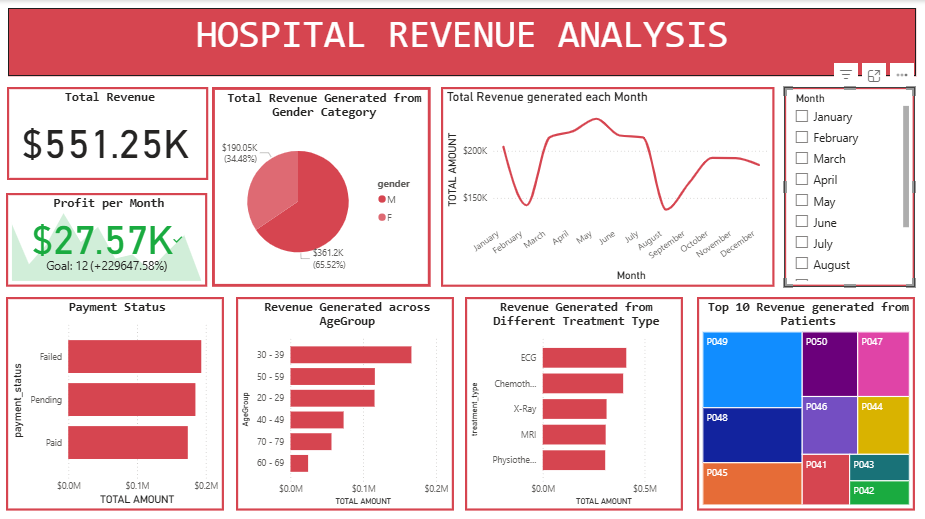

The dashboard page shown, as its layout file describes it:
{"tool":"powerbi","page":{"name":"REVENUE","canvas":[1280,720],"ordinal":1},"visuals":[{"type":"textbox","box":[10.5,10.5,1250.3,94.1],"z":0},{"type":"cardVisual","title":"Total Revenue","fields":{"Data":["BILLING.TOTAL AMOUNT"]},"box":[10.1,119.3,277.2,127.7],"z":1000},{"type":"clusteredBarChart","title":"Revenue Generated across AgeGroup","fields":{"Category":["PATIENTS.AgeGroup"],"Y":["BILLING.TOTAL AMOUNT"]},"box":[324.1,409.3,300.2,294.3],"z":2000},{"type":"clusteredBarChart","title":"Revenue Generated from Different Treatment Type","fields":{"Category":["TREATMENT.treatment_type"],"Y":["BILLING.TOTAL AMOUNT"]},"box":[639.3,409.3,300.2,294.3],"z":3000},{"type":"pieChart","title":"Total Revenue Generated from Gender Category","fields":{"Category":["PATIENTS.gender"],"Y":["BILLING.TOTAL AMOUNT"]},"box":[292.3,119.3,300.7,275.5],"z":4000},{"type":"lineChart","title":"Total Revenue generated each Month","fields":{"Category":["TREATMENT.treatment_date.Variation.Date Hierarchy.Month"],"Y":["BILLING.TOTAL AMOUNT"]},"box":[606.4,119.3,458.6,275.5],"z":5000},{"type":"treemap","title":"Top 10 Revenue generated  from Patients","fields":{"Group":["PATIENTS.patient_id"],"Values":["BILLING.TOTAL AMOUNT"]},"box":[959,409.3,300.2,294.3],"z":6000},{"type":"slicer","fields":{"Values":["TREATMENT.treatment_date.Variation.Date Hierarchy.Month"]},"box":[1079.1,119.7,180.3,275.3],"z":7000},{"type":"kpi","title":"Profit per Month","fields":{"Indicator":["BILLING.TOTAL AMOUNT"],"TrendLine":["BILLING.bill_date.Variation.Date Hierarchy.Month"],"Goal":["CountNonNull(BILLING.bill_id)"]},"box":[8.4,265.4,277.2,129.3],"z":8000},{"type":"barChart","title":" Payment Status","fields":{"Category":["BILLING.payment_status"],"Y":["BILLING.TOTAL AMOUNT"]},"box":[8,409,300,294],"z":9000},{"type":"actionButton","box":[22.2,680.2,100.8,39.3],"z":9001},{"type":"actionButton","box":[1163.8,680.2,100.8,39.3],"z":9002}]}

Visuals, with their boxes in screenshot pixels (x1, y1, x2, y2), scaled from the page's 1280x720 canvas onto the 925x519 screenshot:
textbox: BBox(8, 8, 911, 75)
"Total Revenue" cardVisual: BBox(7, 86, 208, 178)
"Revenue Generated across AgeGroup" clusteredBarChart: BBox(234, 295, 451, 507)
"Revenue Generated from Different Treatment Type" clusteredBarChart: BBox(462, 295, 679, 507)
"Total Revenue Generated from Gender Category" pieChart: BBox(211, 86, 429, 285)
"Total Revenue generated each Month" lineChart: BBox(438, 86, 770, 285)
"Top 10 Revenue generated  from Patients" treemap: BBox(693, 295, 910, 507)
slicer - TREATMENT.treatment_date.Variation.Date Hierarchy.Month: BBox(780, 86, 910, 285)
"Profit per Month" kpi: BBox(6, 191, 206, 285)
" Payment Status" barChart: BBox(6, 295, 223, 507)
actionButton: BBox(16, 490, 89, 518)
actionButton: BBox(841, 490, 914, 518)
